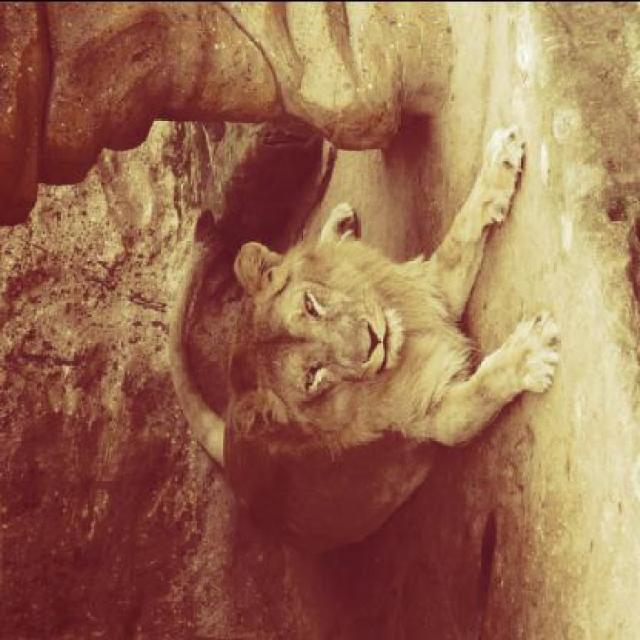Lion: (200, 114, 582, 578)
